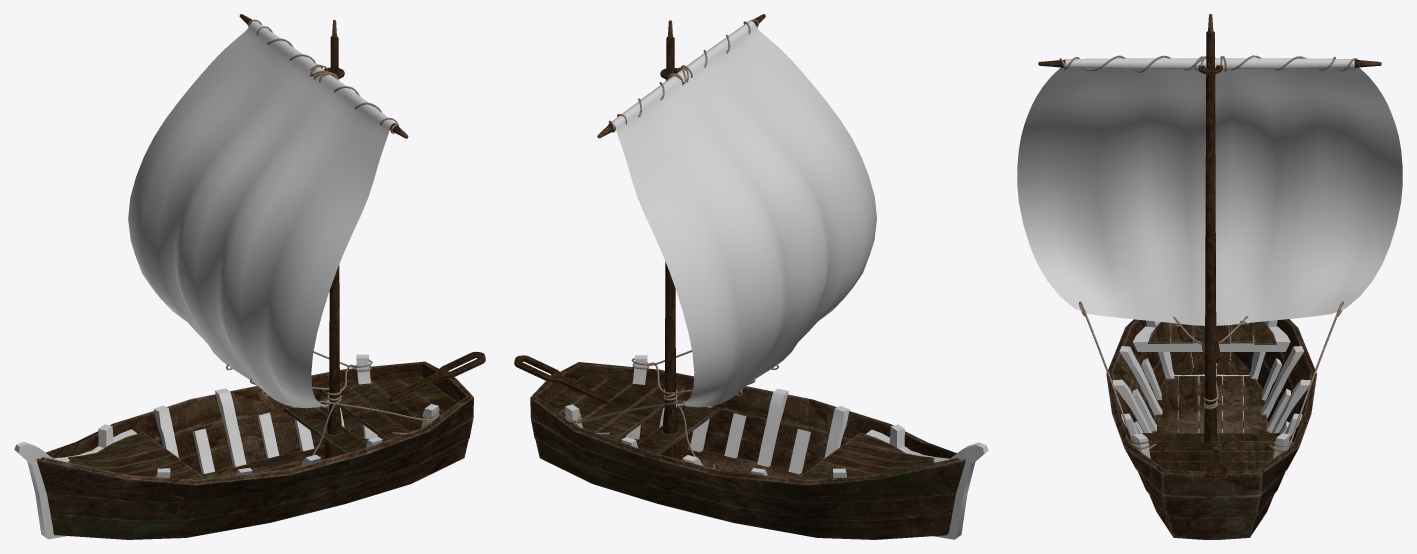
Rendered from WaterBoat.fbx.
3 views of the same model, side by side, from view 1: azimuth 30°, elevation 25°; view 2: azimuth 150°, elevation 25°; view 3: azimuth 270°, elevation 25° (orthographic). The views are drawn at different scales.
Visible parts, largest first — view 1: Object_80, Object_6, Object_4, Object_8, Object_54, Object_56, Object_60, Object_66, Object_62, Object_12, Object_28, Object_70 (+9 smaller); view 2: Object_80, Object_6, Object_4, Object_8, Object_54, Object_56, Object_66, Object_60, Object_62, Object_12, Object_30, Object_70 (+9 smaller); view 3: Object_80, Object_6, Object_54, Object_4, Object_8, Object_18, Object_32, Object_60, Object_62, Object_24, Object_26, Object_12 (+13 smaller).
Part boxes in pixels (box(x1,y1,x2,y2)): Object_80: box(128, 21, 396, 408); Object_6: box(36, 361, 473, 503); Object_4: box(47, 399, 473, 520); Object_8: box(50, 419, 468, 539); Object_54: box(324, 20, 342, 459); Object_56: box(283, 406, 366, 454); Object_60: box(319, 383, 407, 440); Object_66: box(14, 441, 67, 539); Object_62: box(341, 381, 422, 432); Object_12: box(215, 388, 320, 466); Object_28: box(201, 437, 368, 479); Object_70: box(388, 351, 485, 401); Object_80: box(608, 21, 876, 407); Object_6: box(530, 362, 965, 503); Object_4: box(531, 400, 955, 521); Object_8: box(535, 419, 952, 539); Object_54: box(661, 20, 680, 459); Object_56: box(637, 406, 720, 454); Object_66: box(934, 442, 988, 539); Object_60: box(597, 384, 685, 440); Object_62: box(581, 381, 662, 432); Object_12: box(682, 388, 788, 466); Object_30: box(634, 437, 803, 478); Object_70: box(514, 355, 611, 405); Object_80: box(1017, 58, 1402, 325); Object_6: box(1106, 319, 1316, 496); Object_54: box(1204, 14, 1217, 441); Object_4: box(1131, 352, 1292, 518); Object_8: box(1143, 325, 1279, 539); Object_18: box(1119, 346, 1304, 420); Object_32: box(1133, 326, 1290, 351); Object_60: box(1134, 440, 1289, 451); Object_62: box(1149, 451, 1274, 461); Object_24: box(1178, 376, 1198, 432); Object_26: box(1222, 376, 1242, 432); Object_12: box(1112, 379, 1310, 432).
Size of the model in its own units: 721 by 672 by 496.
